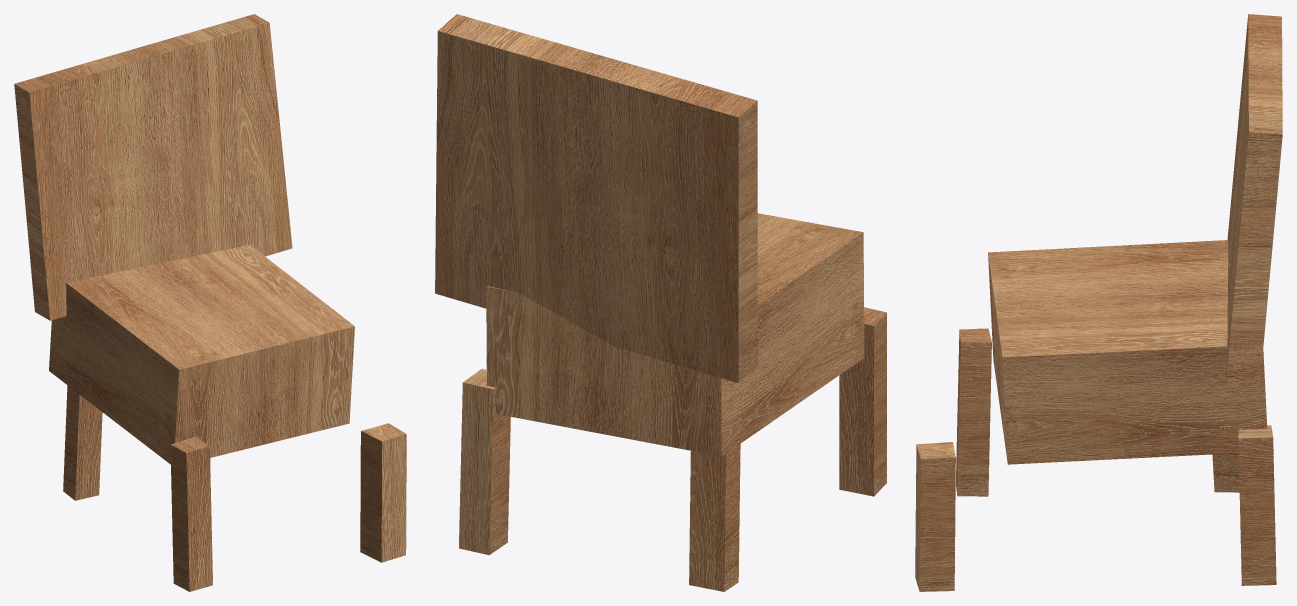
The model's file is 44650_ours.glb.
3 renders of one model, left to right at view 1: azimuth 30°, elevation 25°; view 2: azimuth 150°, elevation 25°; view 3: azimuth 270°, elevation 25°, orthographic. The views are drawn at different scales.
Parts seen in each view (by area): view 1: ParentEmpty; view 2: ParentEmpty; view 3: ParentEmpty.
Part boxes in pixels (box(x1,y1,x2,y2)): ParentEmpty: box(14, 14, 406, 591); ParentEmpty: box(435, 14, 886, 591); ParentEmpty: box(915, 14, 1282, 591).
Size of the model in its own units: 0.6289 by 1 by 0.7134.
1 material, 1 textured.
